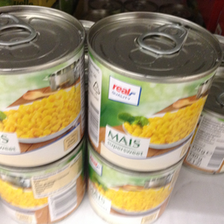corn: (86, 11, 222, 172), (1, 5, 87, 169)
